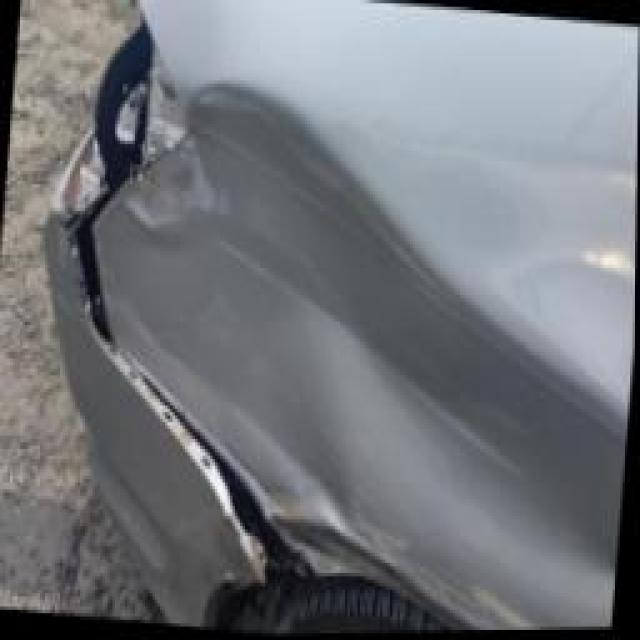Bumper: (55, 432, 172, 595)
Fender: (110, 20, 530, 566)
Light: (32, 20, 175, 210)
